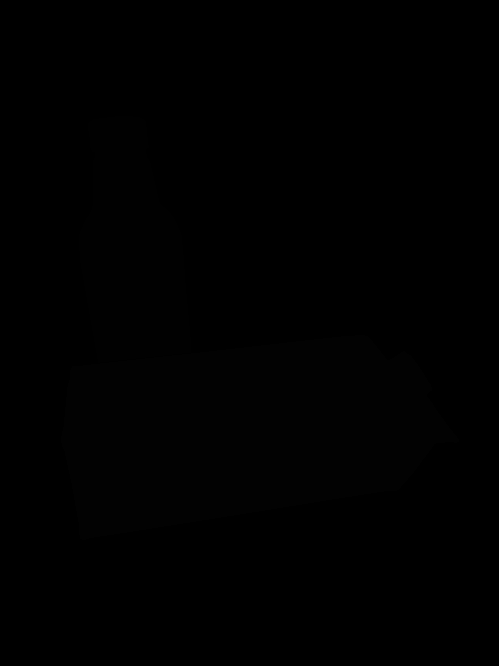carton: (56, 330, 461, 544)
water_bottle: (74, 114, 197, 370)
